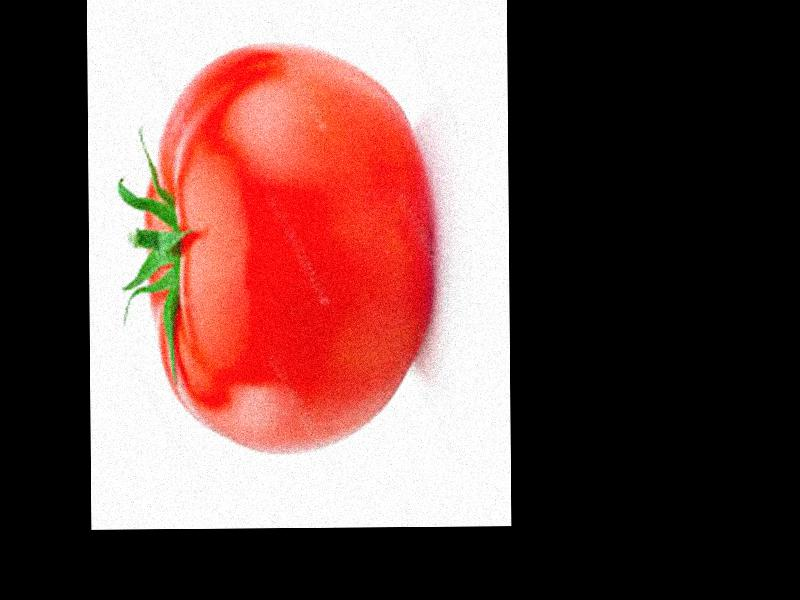Tomato: (144, 42, 426, 455)
